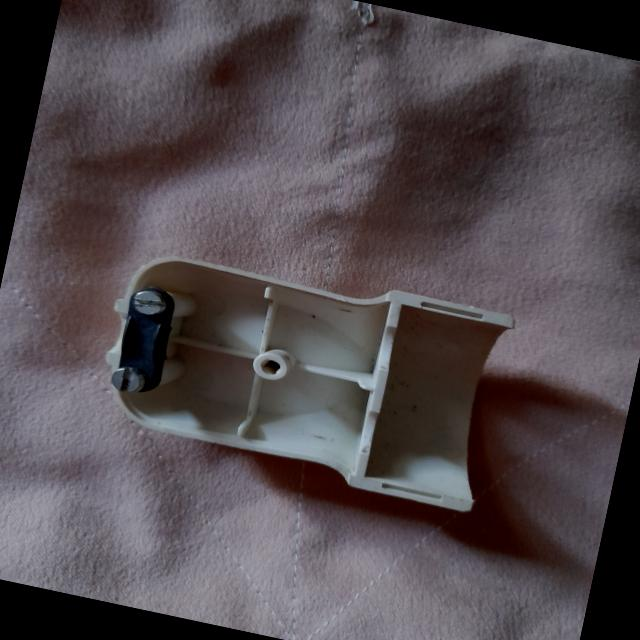Slotted: (106, 362, 144, 395), (130, 286, 167, 318)
